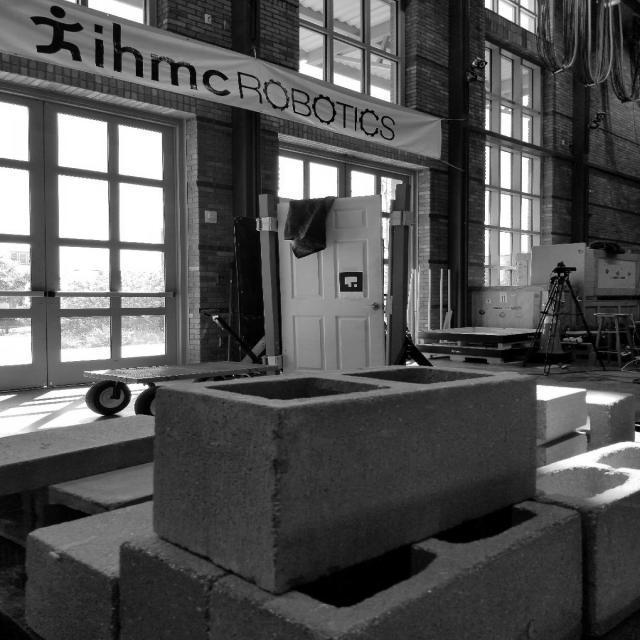door: (276, 192, 391, 394), (362, 304, 380, 312)
